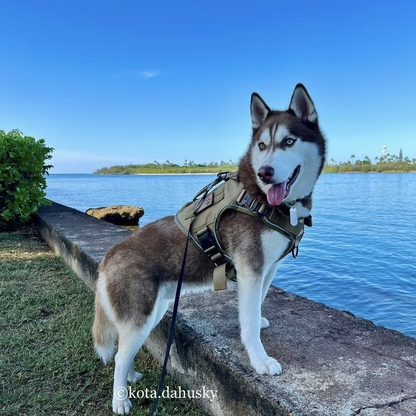husky: (87, 81, 331, 416)
